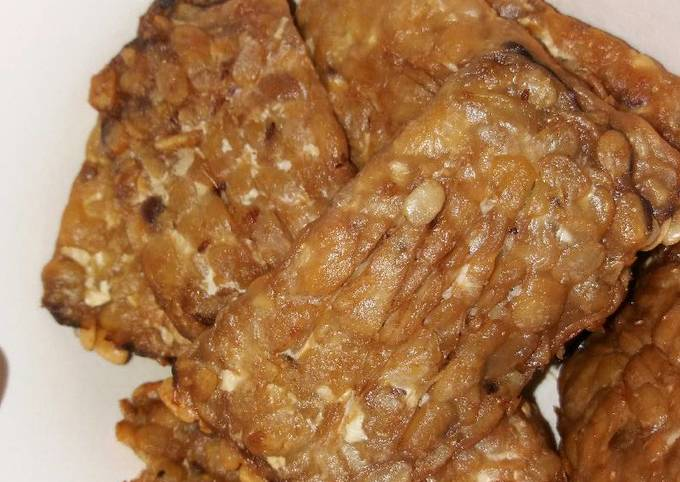Tempe: (208, 63, 632, 478), (80, 12, 323, 321)
